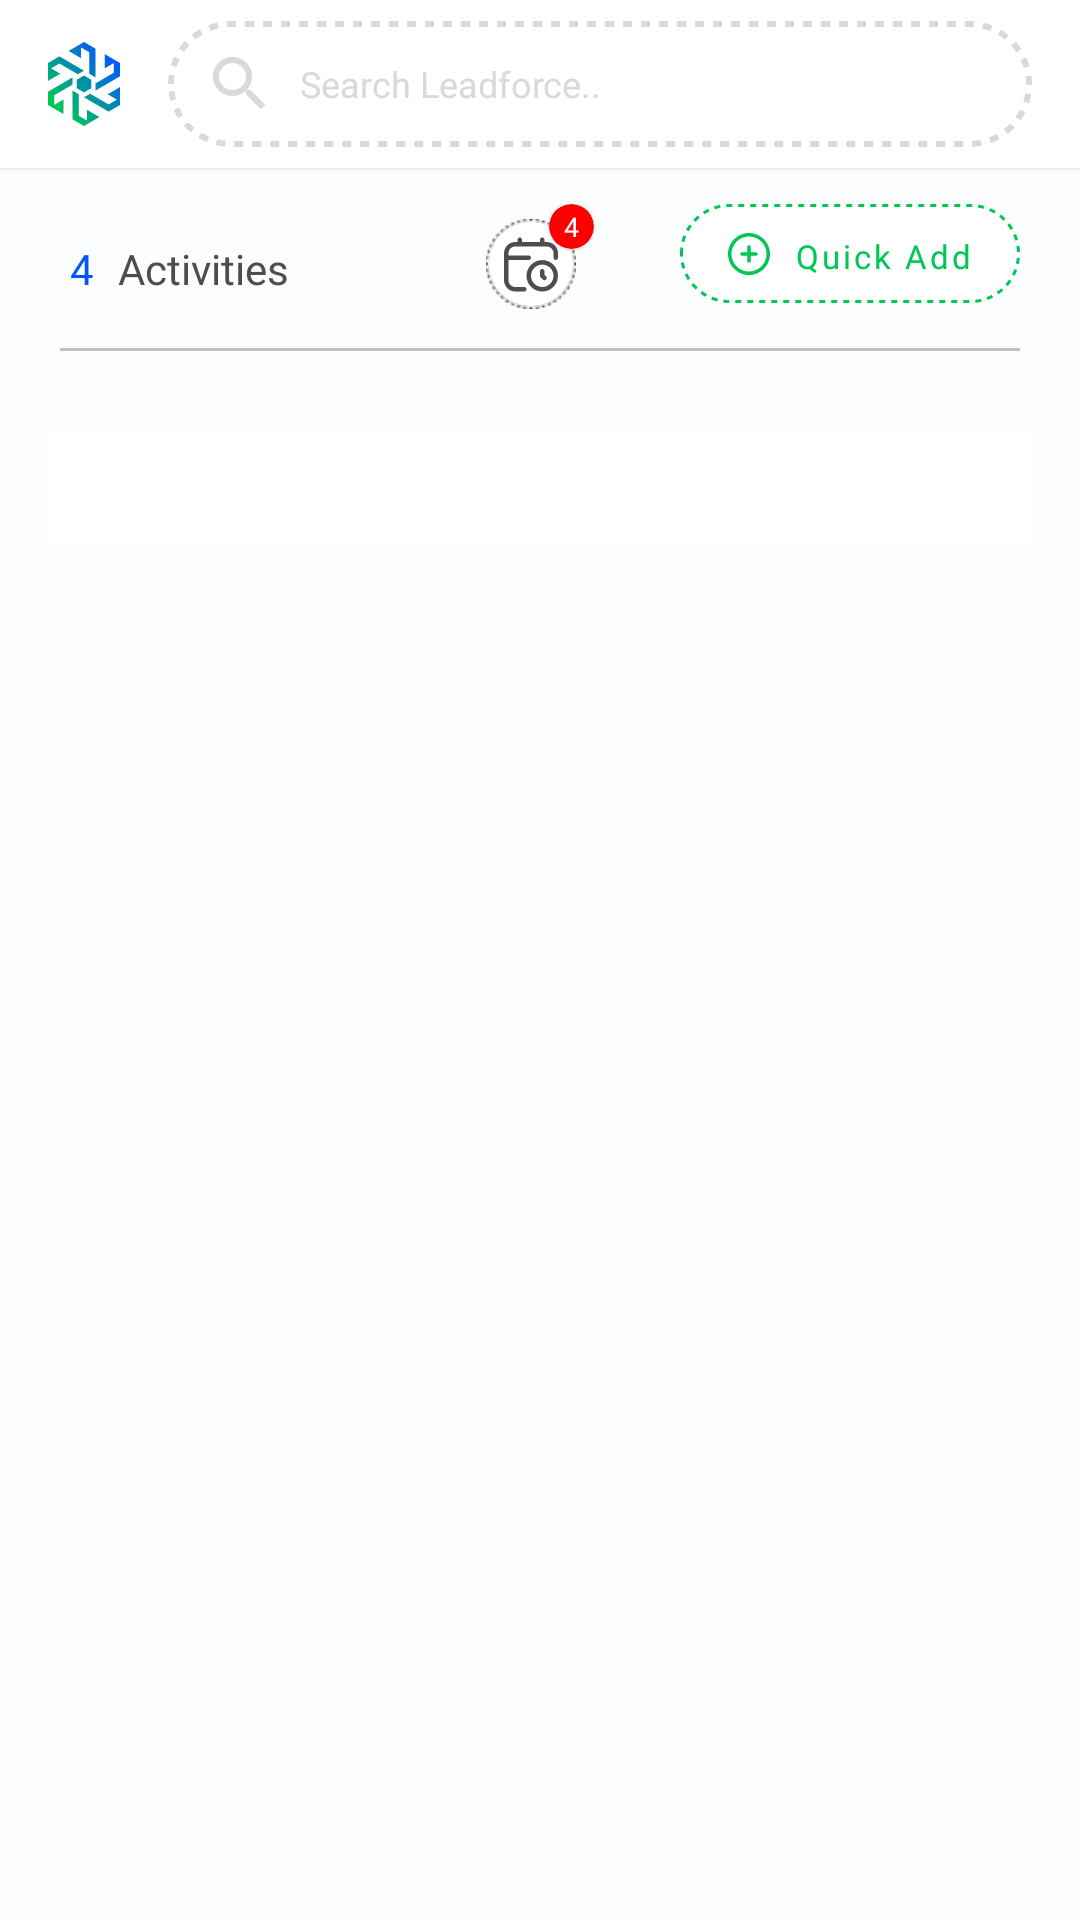

Screen size 1080x1920. Icon name, then its box in pixels as (x1, y1, x2, y2):
calender: (504, 237, 558, 292)
